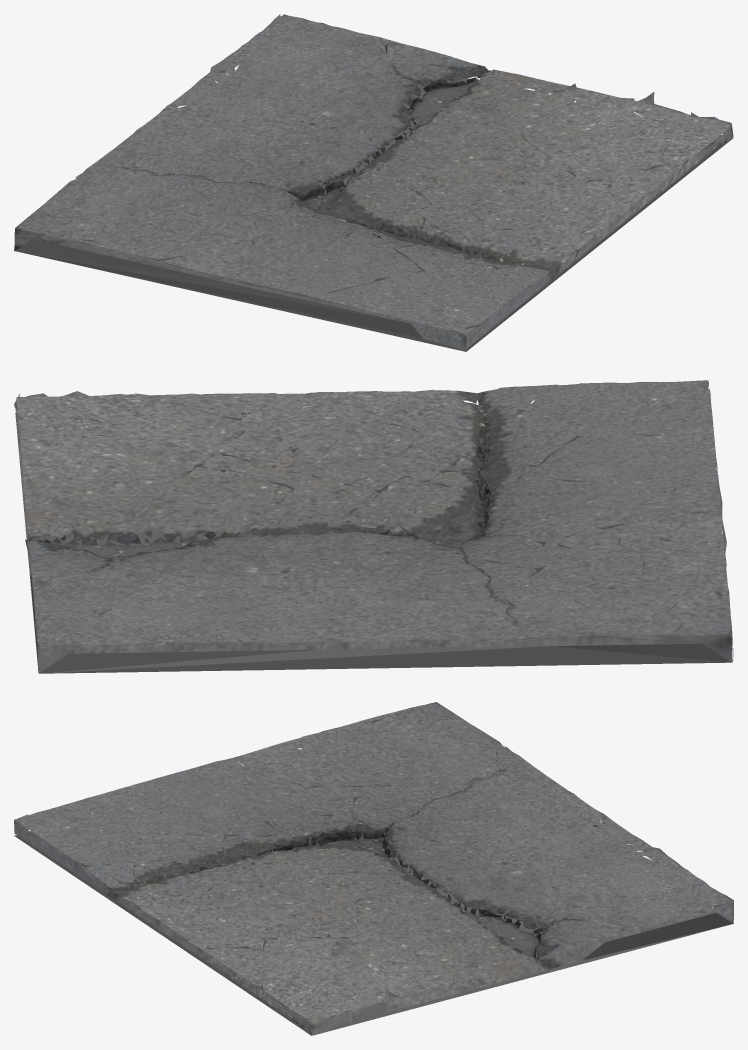
Rendered from cracks_in_asfalt_road_free.glb.
3 renders of one model, top to bottom at view 1: azimuth 30°, elevation 25°; view 2: azimuth 150°, elevation 25°; view 3: azimuth 270°, elevation 25°, orthographic. The views are drawn at different scales.
Parts seen in each view (by area): view 1: cracks_in_asfalt_road_free.001; view 2: cracks_in_asfalt_road_free.001; view 3: cracks_in_asfalt_road_free.001.
Boxes of the visible parts, <box> form: cracks_in_asfalt_road_free.001: <box>14,14,733,351</box>; cracks_in_asfalt_road_free.001: <box>14,380,733,673</box>; cracks_in_asfalt_road_free.001: <box>14,702,733,1035</box>.
Bounding box in the file's own units: 2.09 × 0.0867 × 2.03.
Materials: 1 (1 with a texture image).
